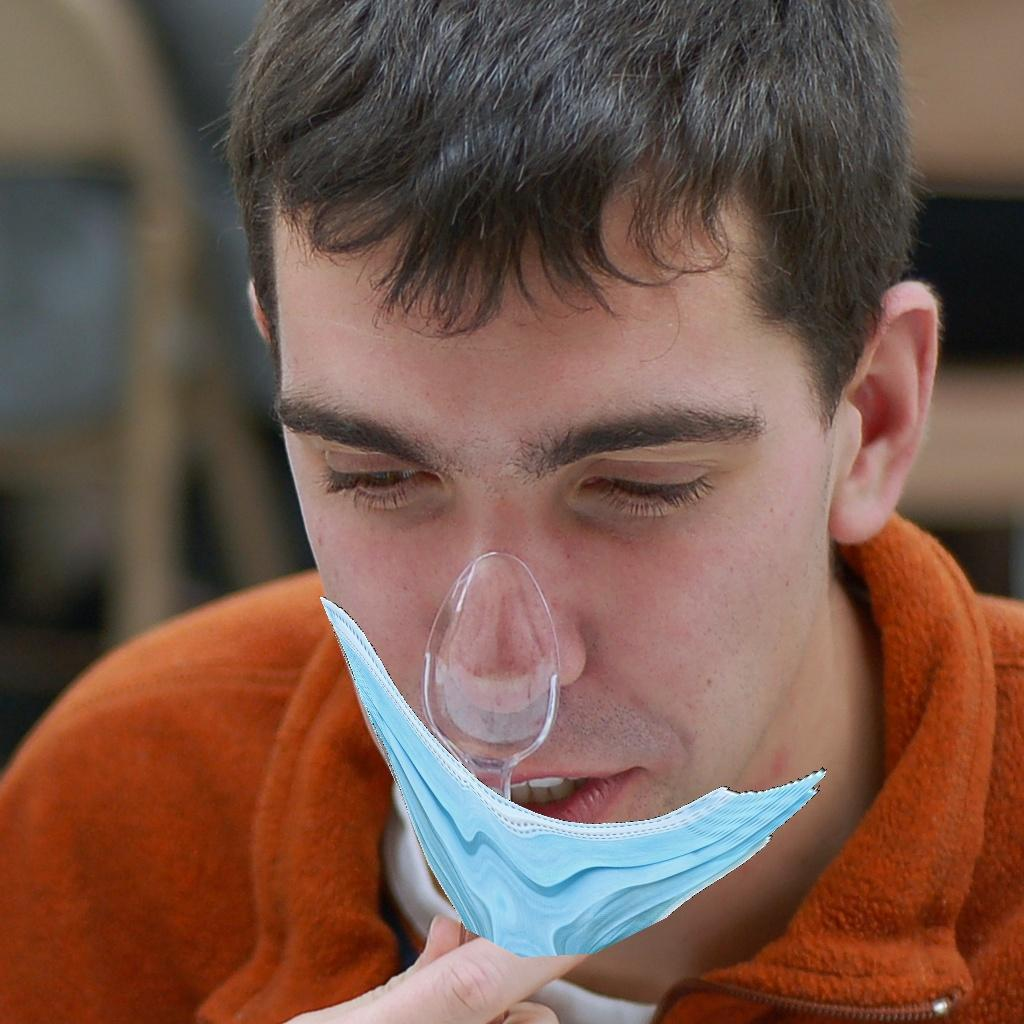Máscara Incorreta: (255, 233, 856, 954)
